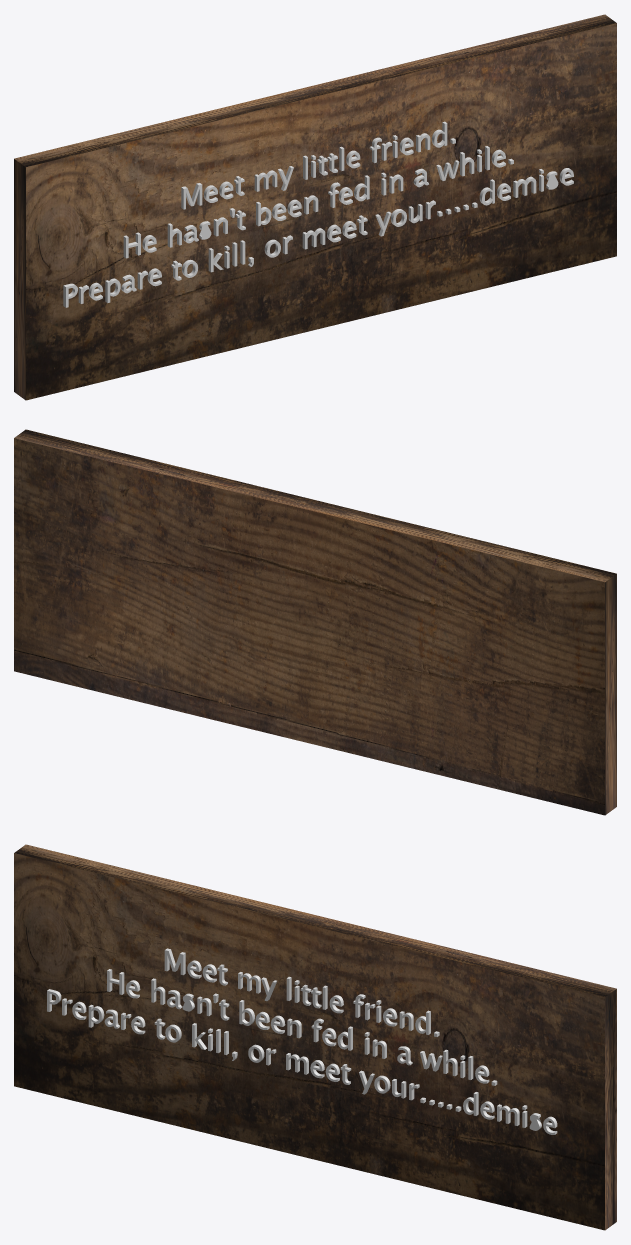
The model's file is text meet friend.....fbx.
3 views of the same model, one above another, from view 1: azimuth 30°, elevation 25°; view 2: azimuth 150°, elevation 25°; view 3: azimuth 330°, elevation 25° (orthographic).
Visible parts, largest first — view 1: pasted__pCube1, typeMesh3; view 2: pasted__pCube1; view 3: pasted__pCube1, typeMesh3.
Part boxes in pixels (x1=…): pasted__pCube1: x1=14, y1=14, x2=616, y2=400; typeMesh3: x1=63, y1=121, x2=573, y2=307; pasted__pCube1: x1=14, y1=429, x2=616, y2=815; pasted__pCube1: x1=14, y1=844, x2=616, y2=1230; typeMesh3: x1=47, y1=948, x2=557, y2=1134.
Size of the model in its own units: 3.56 by 1.34 by 0.1608.
2 materials, 1 textured.
